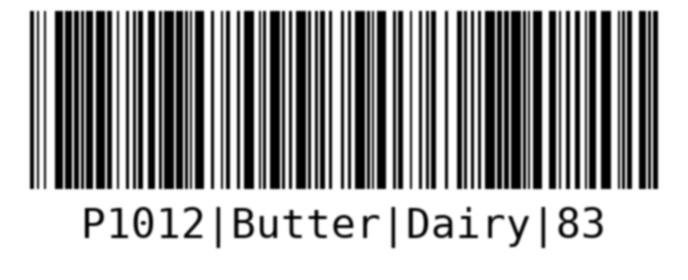milk: (17, 5, 666, 262)
